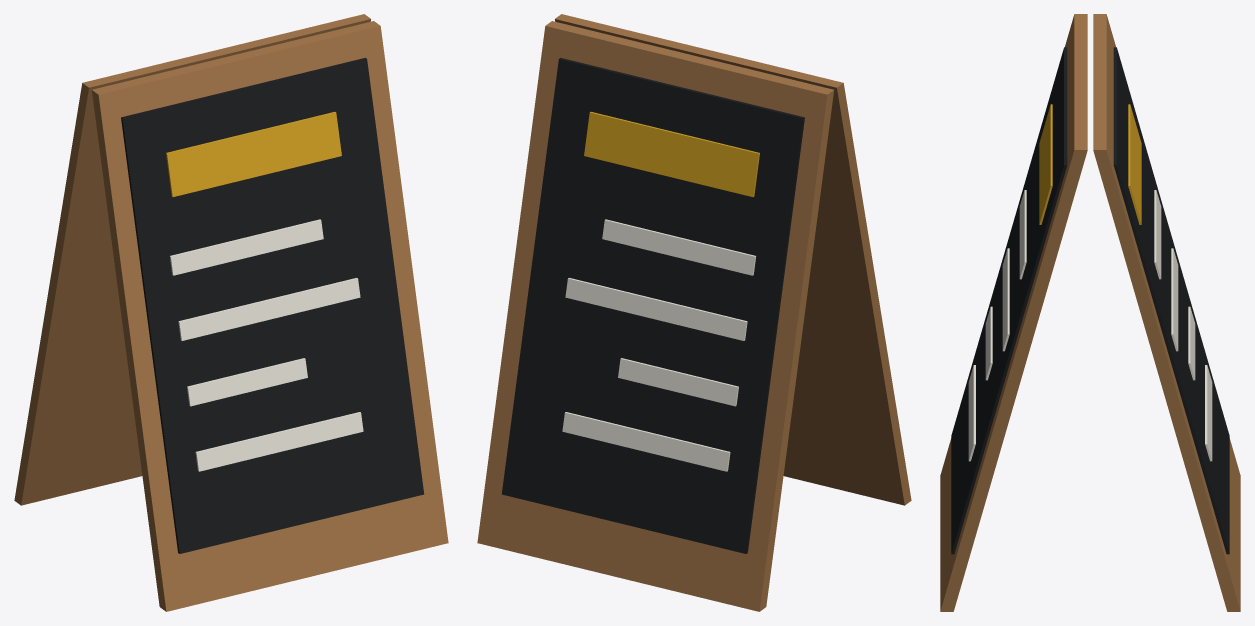
Rendered from a_frame_sign.glb.
3 views of the same model, side by side, from view 1: azimuth 30°, elevation 25°; view 2: azimuth 150°, elevation 25°; view 3: azimuth 270°, elevation 25° (orthographic).
Parts seen in each view (by area): view 1: a_frame_sign; view 2: a_frame_sign; view 3: a_frame_sign.
Boxes of the visible parts, <box> form: a_frame_sign: <box>14,14,448,611</box>; a_frame_sign: <box>477,14,911,611</box>; a_frame_sign: <box>940,14,1240,611</box>.
Size of the model in its own units: 0.6 by 0.95 by 0.56.
1 material, 1 textured.
